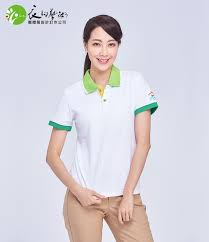C_polo shirt: (49, 68, 165, 194)
